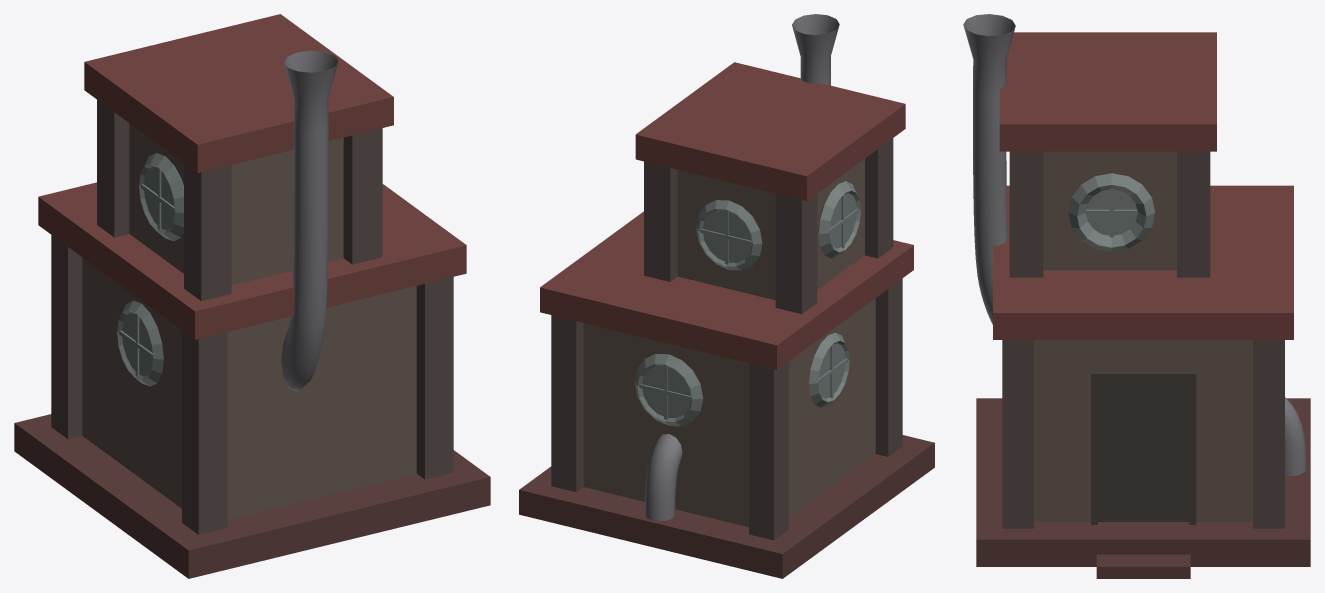
File: Building3.fbx
3 views of the same model, side by side, from view 1: azimuth 30°, elevation 25°; view 2: azimuth 150°, elevation 25°; view 3: azimuth 270°, elevation 25° (orthographic). The views are drawn at different scales.
Visible parts, largest first — view 1: Cube.007, Cube.014, Cube, Cube.006, Cube.008, BezierCurve.003, Cube.003, Cube.005, Cube.009, Cube.021, Cube.010, Cube.011 (+2 smaller); view 2: Cube.007, Cube.014, Cube.006, Cube, Cube.008, Cube.021, Cube.004, Cube.011, Cube.003, Cube.012, Cube.018, Cube.002 (+5 smaller); view 3: Cube.006, Cube.014, Cube.007, Cube, Cube.020, Cube.008, BezierCurve.003, Cube.004, Cube.005, Cube.016, Cube.010, Cube.012 (+2 smaller).
Part boxes in pixels (box(x1,y1,x2,y2)): Cube.007: box(82, 257, 416, 519); Cube.014: box(84, 14, 393, 172); Cube: box(14, 414, 490, 578); Cube.006: box(38, 182, 466, 339); Cube.008: box(129, 123, 343, 285); BezierCurve.003: box(281, 50, 338, 391); Cube.003: box(182, 330, 227, 534); Cube.005: box(416, 277, 453, 479); Cube.009: box(184, 163, 231, 301); Cube.021: box(51, 235, 82, 438); Cube.010: box(343, 128, 382, 264); Cube.011: box(97, 100, 129, 237); Cube.007: box(583, 298, 875, 527); Cube.014: box(635, 62, 905, 200); Cube.006: box(540, 211, 913, 369); Cube: box(519, 435, 934, 578); Cube.008: box(677, 159, 864, 300); Cube.021: box(749, 362, 788, 540); Cube.004: box(551, 315, 583, 492); Cube.011: box(775, 193, 817, 314); Cube.003: box(875, 278, 902, 456); Cube.012: box(644, 161, 677, 281); Cube.018: box(634, 354, 703, 426); Cube.002: box(696, 200, 762, 270); Cube.006: box(993, 185, 1293, 339); Cube.014: box(999, 32, 1216, 151); Cube.007: box(1034, 340, 1252, 521); Cube: box(976, 398, 1310, 566); Cube.020: box(1091, 370, 1196, 524); Cube.008: box(1043, 151, 1176, 270); BezierCurve.003: box(963, 14, 1015, 324); Cube.004: box(1253, 340, 1284, 528); Cube.005: box(1002, 340, 1033, 528); Cube.016: box(1068, 173, 1155, 251); Cube.010: box(1009, 151, 1043, 277); Cube.012: box(1177, 151, 1210, 277).
Bounding box in the file's own units: 217 × 305 × 208.
